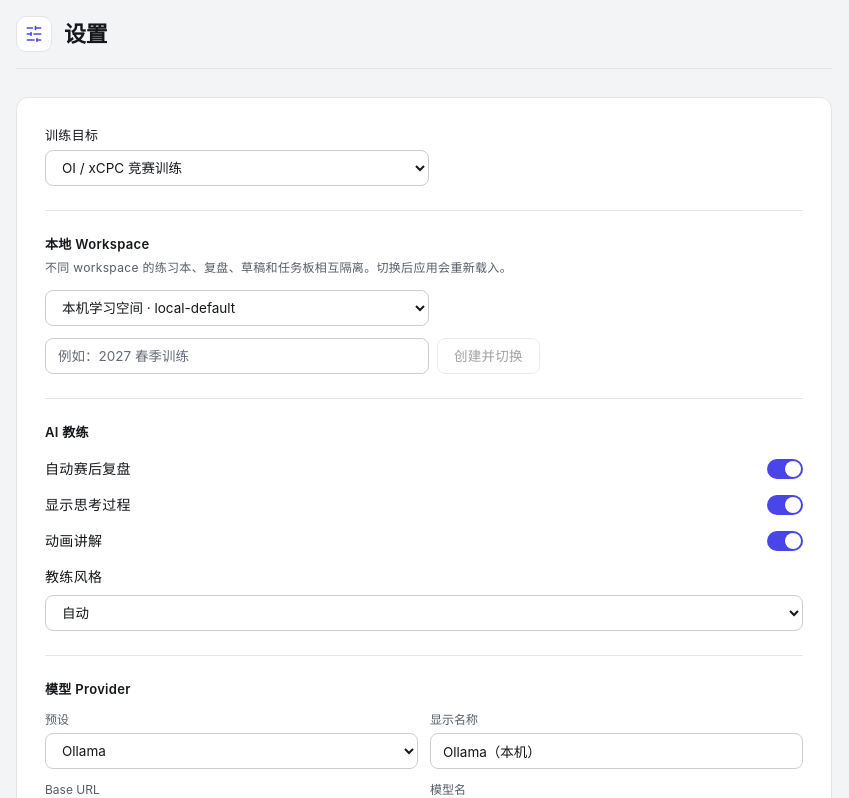
it: provider setup return path › persists the AI coach switches and style
Click the switch named "自动赛后复盘": (785, 468) 767,458 -> 803,478
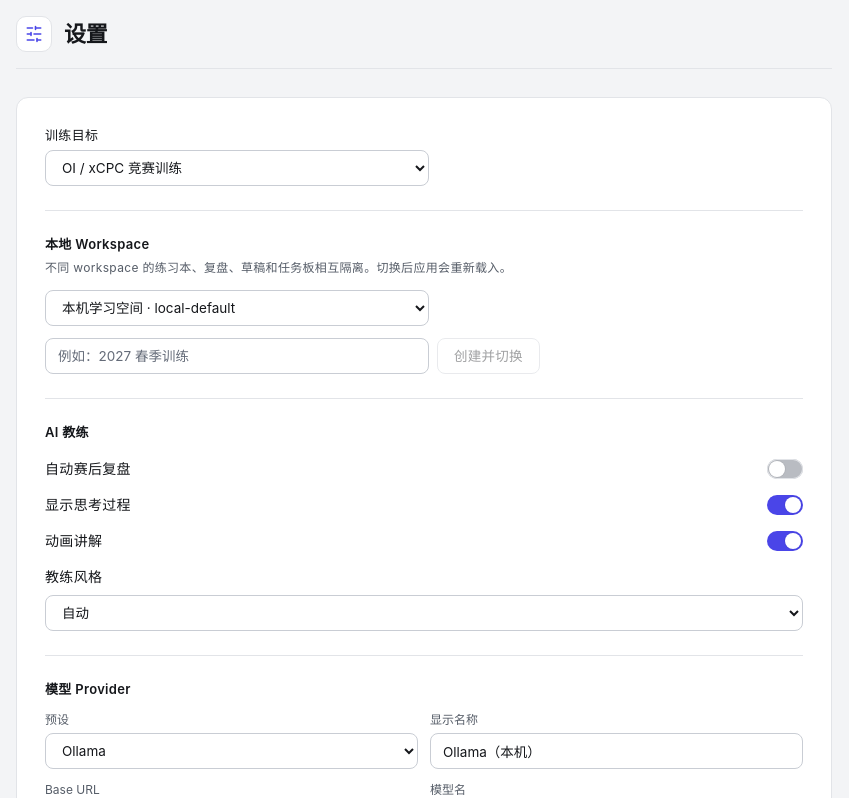
Click the switch named "动画讲解": (785, 540) 767,530 -> 803,550
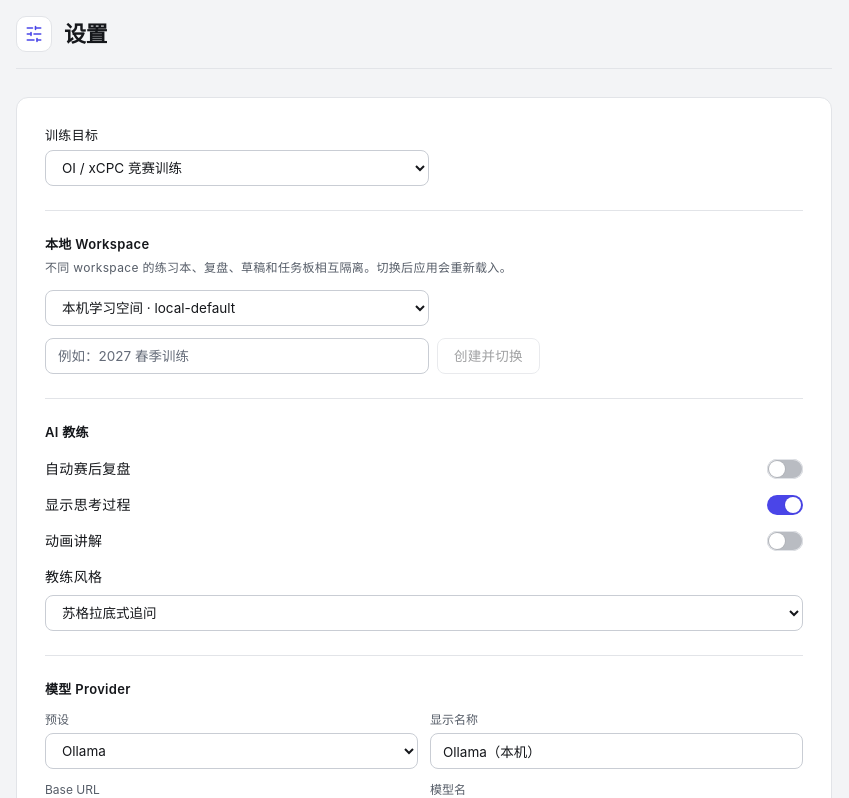
Select "苏格拉底式追问" in the dropdown named "教练风格": (424, 612) 45,594 -> 803,630
Expected: the switch named "自动赛后复盘" is not checked, 767,458 -> 803,478
